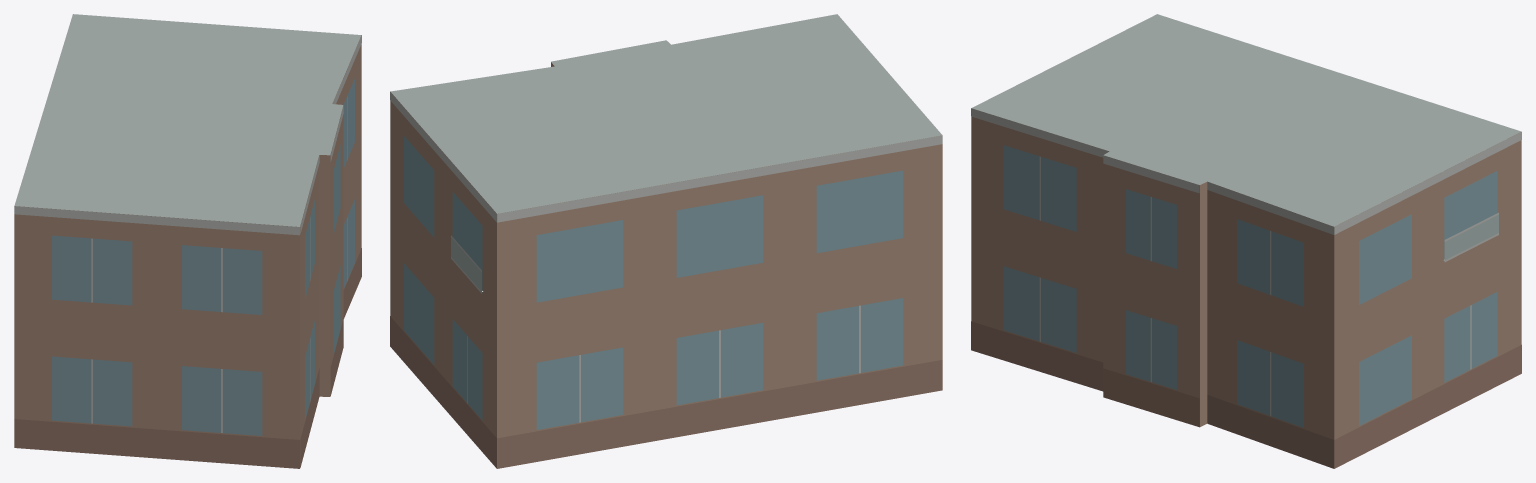
The model's file is survey-upis-32587291.glb.
The picture shows the model from 3 angles, left to right: view 1: azimuth 30°, elevation 25°; view 2: azimuth 150°, elevation 25°; view 3: azimuth 270°, elevation 25°; orthographic projection. The views are drawn at different scales.
Visible parts, largest first — view 1: survey-upis-32587291.tmp; view 2: survey-upis-32587291.tmp; view 3: survey-upis-32587291.tmp.
Part boxes in pixels (left/top/right/bottom): survey-upis-32587291.tmp: left=14, top=14, right=361, bottom=468; survey-upis-32587291.tmp: left=390, top=14, right=942, bottom=468; survey-upis-32587291.tmp: left=971, top=14, right=1521, bottom=468.
Size of the model in its own units: 13.39 by 7.1 by 14.64.
